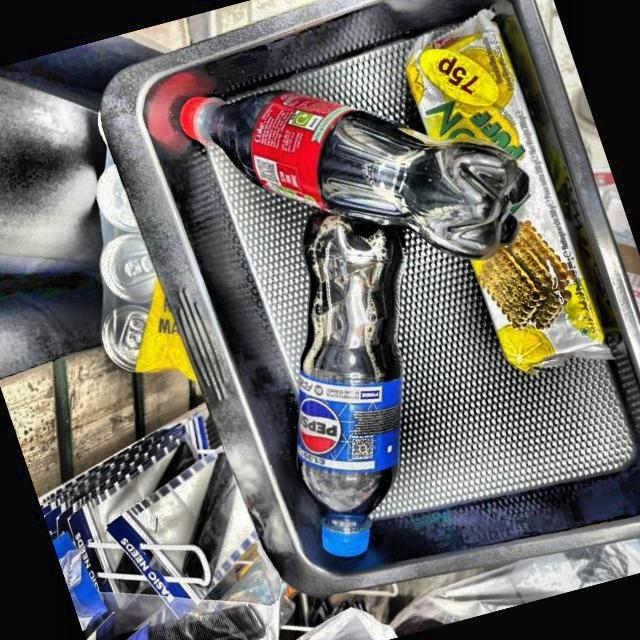coke-bottle: (175, 89, 523, 260)
lemon puff: (409, 12, 612, 374)
pepsi-bottle: (290, 199, 404, 562)
